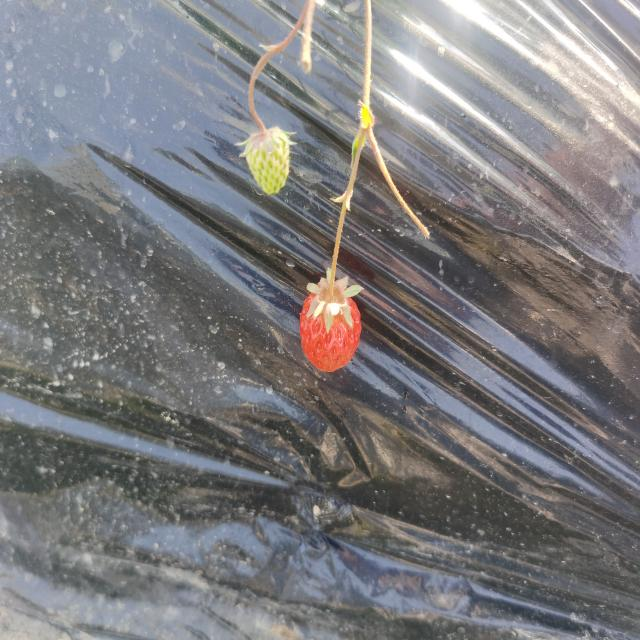stem: (329, 253, 338, 303)
strawberry: (300, 281, 362, 372)
